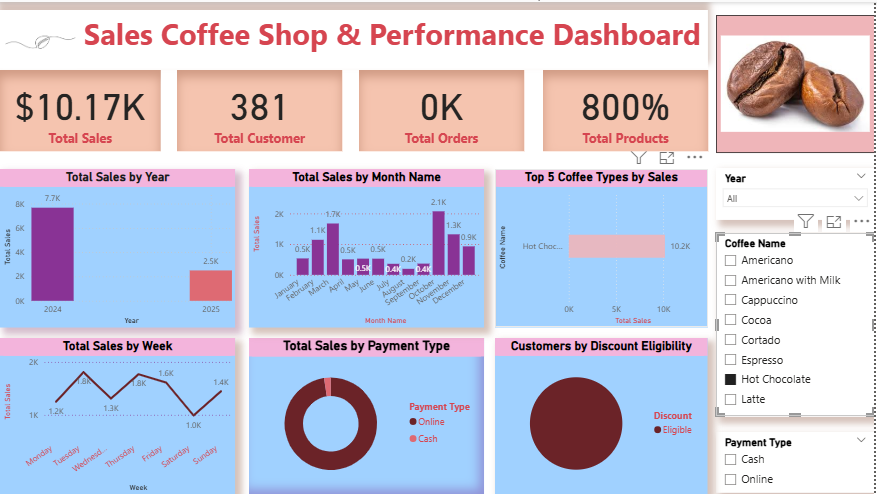

The page's visual inventory and layout, read from the dashboard file:
{"tool":"powerbi","page":{"name":"Page 1","canvas":[1280,720],"ordinal":0},"visuals":[{"type":"textbox","box":[0,12.3,1036,86.4],"z":0},{"type":"card","fields":{"Values":["Coffee Count.Total Sales"]},"box":[0,98.8,234.6,119.4],"z":1000},{"type":"card","fields":{"Values":["CountNonNull(Distinct Customers.Customer Id)"]},"box":[259.3,98.8,241.5,119.4],"z":2000},{"type":"columnChart","fields":{"Category":["Table_1.Year"],"Y":["Coffee Count.Total Sales"]},"box":[0,244.3,344.4,231.9],"z":3000},{"type":"image","box":[1048.2,18.5,231.8,201.6],"z":4000},{"type":"slicer","fields":{"Values":["Table_1.Year"]},"box":[1048.2,243.6,231.8,75.6],"z":5000},{"type":"slicer","fields":{"Values":["Table_1.Coffee Name"]},"box":[1048.2,337.6,231.8,268.8],"z":6000},{"type":"slicer","fields":{"Values":["Table_1.Payment Type"]},"box":[1048.4,629.8,231.9,89.2],"z":7000},{"type":"lineChart","fields":{"Y":["Coffee Count.Total Sales"],"Category":["Table_1.Week"]},"box":[0,491.3,344.4,229.2],"z":8000},{"type":"barChart","title":"Top 5 Coffee Types by Sales","fields":{"Category":["Table_1.Coffee Name"],"Y":["Coffee Count.Total Sales"]},"box":[724.5,244.3,311.5,231.9],"z":9000},{"type":"donutChart","fields":{"Y":["Coffee Count.Total Sales"],"Category":["Table_1.Payment Type"]},"box":[365,491.3,344.4,229.2],"z":10000},{"type":"pieChart","title":"Customers by Discount Eligibility","fields":{"Category":["Table_1.Discount"],"Y":["CountNonNull(Table_1.Customer Id)"]},"box":[724.5,491.3,311.5,229.2],"z":11000},{"type":"card","fields":{"Values":["Coffee Count.Total Orders"]},"box":[525.6,100.2,241.5,119.4],"z":12000},{"type":"card","fields":{"Values":["CountNonNull(Coffee Count.Count)"]},"box":[794.5,100.2,241.5,119.4],"z":13000},{"type":"image","box":[0,0,118,118],"z":14000},{"type":"columnChart","fields":{"Y":["Coffee Count.Total Sales"],"Category":["Table_1.Month Name"]},"box":[365,244.3,344.4,231.9],"z":15000}]}

Visuals, with their boxes in screenshot pixels (x1, y1, x2, y2), scaled from the page's 1280x720 canvas onto the 877x494 screenshot:
textbox: [0,8,710,68]
card - Coffee Count.Total Sales: [0,68,161,150]
card - CountNonNull(Distinct Customers.Customer Id): [178,68,343,150]
columnChart - Table_1.Year x Coffee Count.Total Sales: [0,168,236,327]
image: [718,13,876,151]
slicer - Table_1.Year: [718,167,876,219]
slicer - Table_1.Coffee Name: [718,232,876,416]
slicer - Table_1.Payment Type: [718,432,876,493]
lineChart - Coffee Count.Total Sales x Table_1.Week: [0,337,236,493]
"Top 5 Coffee Types by Sales" barChart: [496,168,710,327]
donutChart - Coffee Count.Total Sales x Table_1.Payment Type: [250,337,486,493]
"Customers by Discount Eligibility" pieChart: [496,337,710,493]
card - Coffee Count.Total Orders: [360,69,526,151]
card - CountNonNull(Coffee Count.Count): [544,69,710,151]
image: [0,0,81,81]
columnChart - Coffee Count.Total Sales x Table_1.Month Name: [250,168,486,327]
